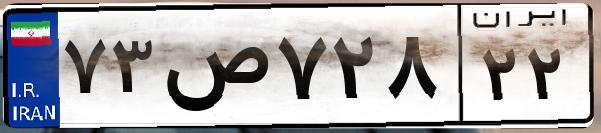2: (330, 28, 385, 110), (475, 38, 525, 113), (525, 38, 570, 115)
3: (110, 28, 158, 98)
7: (270, 28, 330, 110), (57, 26, 110, 100)
8: (385, 28, 445, 110)
ص: (158, 20, 270, 120)
